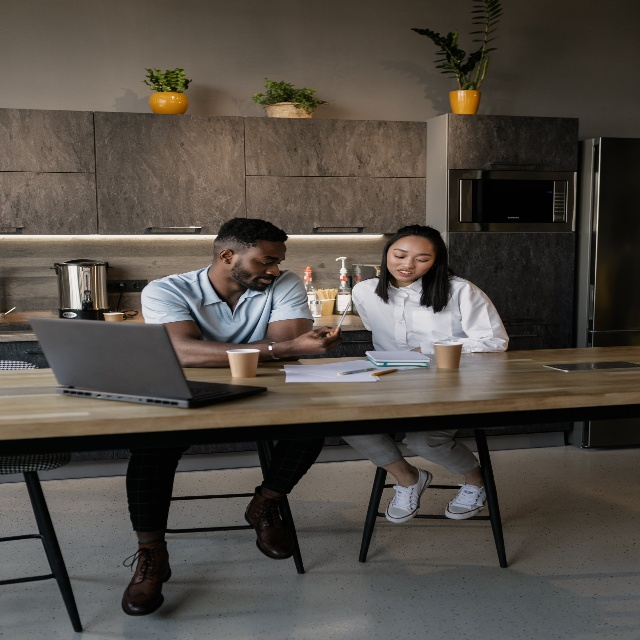Sin_guantes: (296, 328, 342, 358)
